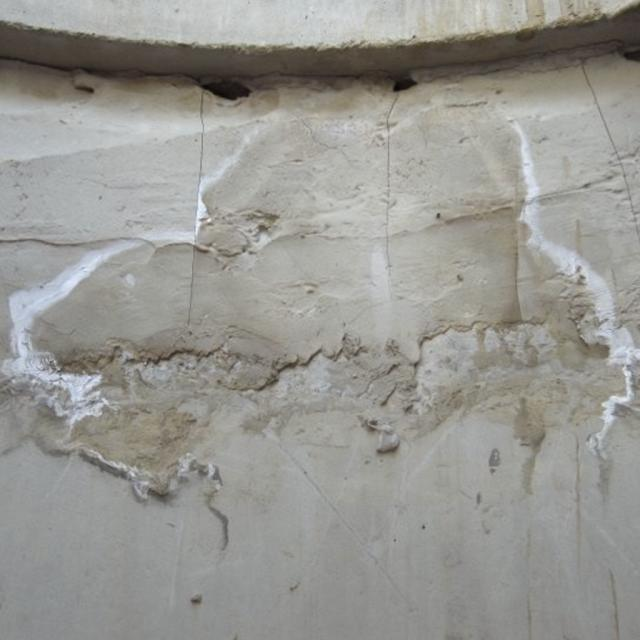D01: (514, 122, 639, 449), (2, 238, 165, 429)
